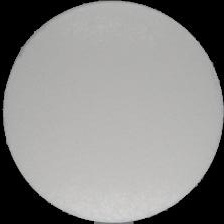63629-1541: (0, 0, 224, 224)
